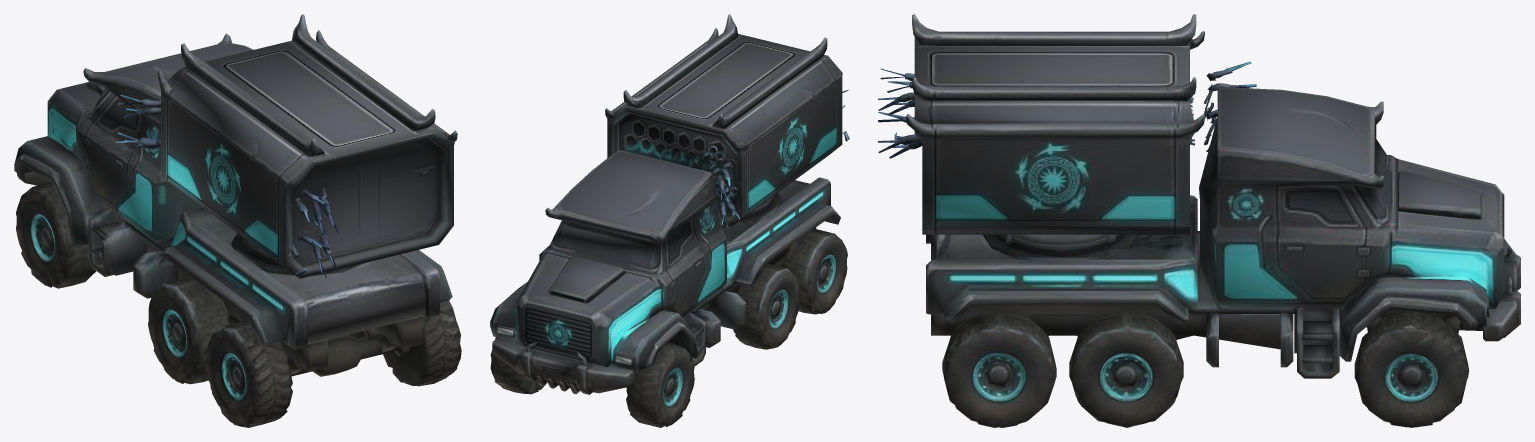
File: swarm_hive.glb
3 views of the same model, side by side, from view 1: azimuth 30°, elevation 25°; view 2: azimuth 150°, elevation 25°; view 3: azimuth 270°, elevation 25° (orthographic). The views are drawn at different scales.
Parts seen in each view (by area): view 1: Body; view 2: Body; view 3: Body.
Boxes of the visible parts, bbox=[...] form: Body: bbox=[14, 14, 461, 427]; Body: bbox=[490, 14, 849, 427]; Body: bbox=[878, 14, 1520, 427].
Bounding box in the file's own units: 3 × 4.18 × 7.33.
1 material, 1 textured.
